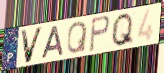4: (136, 8, 155, 43)
A: (40, 24, 65, 60)
P: (88, 14, 112, 53)
Q: (110, 12, 135, 48), (66, 20, 89, 55)
V: (19, 25, 45, 65)
